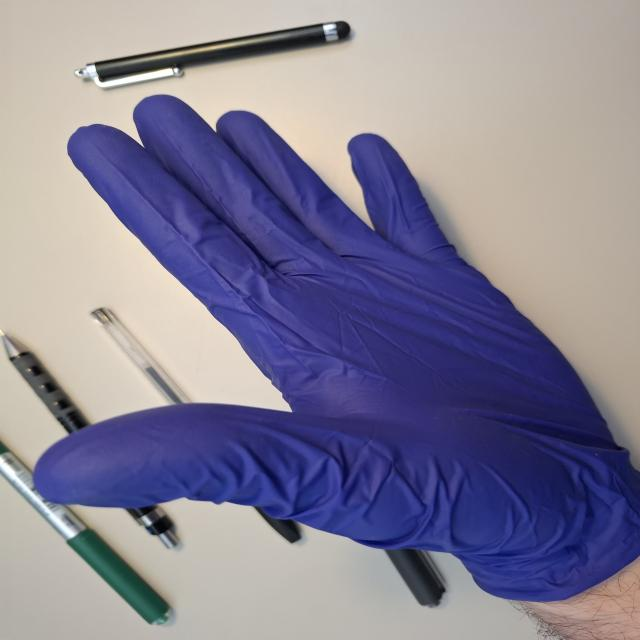glove_on: (27, 90, 640, 608)
